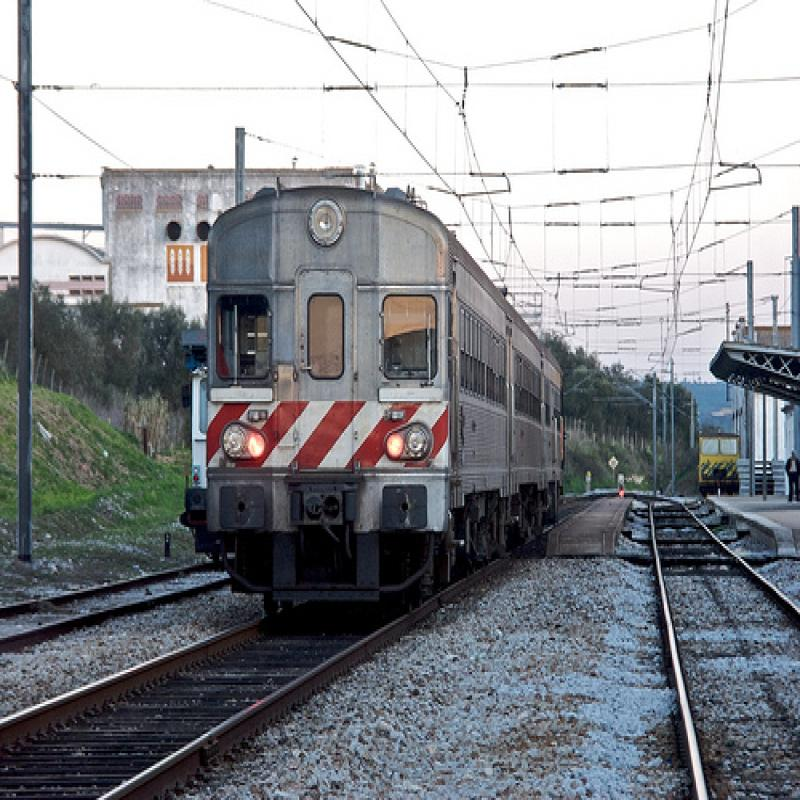train: (211, 178, 563, 609), (184, 362, 213, 564), (699, 425, 745, 496)
